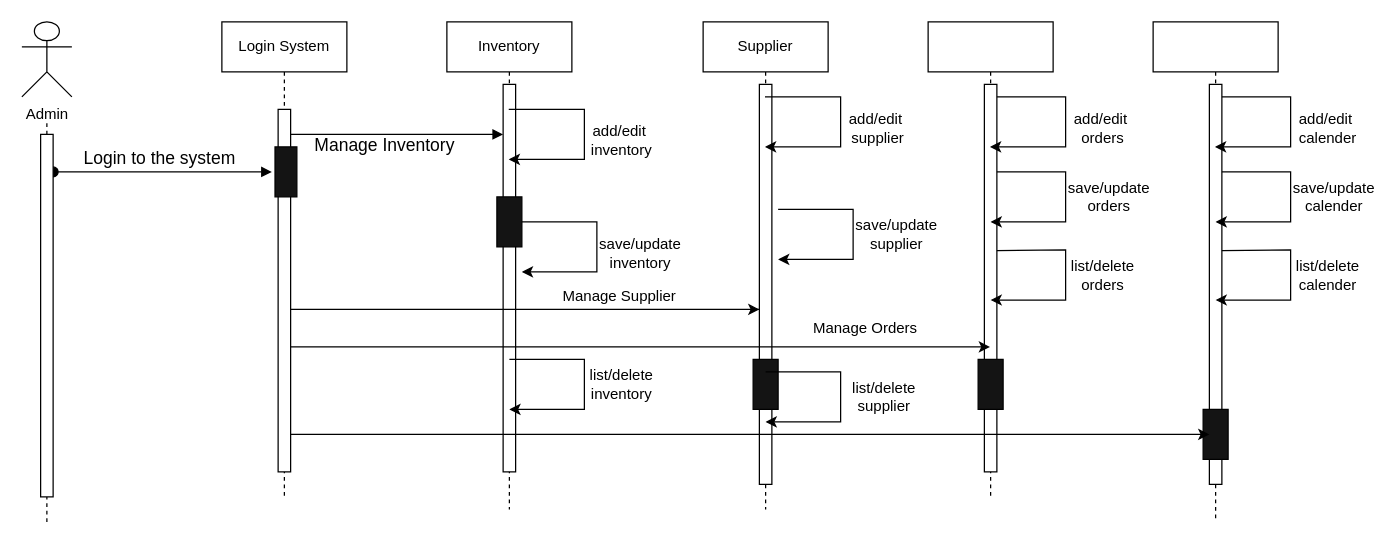
The diagram is 1400 pixels wide and 545 high, and some of its shapes have lost their labels. The box of each missing label's shape, as (x1, y1, x2, y2) in pixels:
Calender: (1152, 21, 1278, 522)
Orders: (927, 21, 1053, 497)
